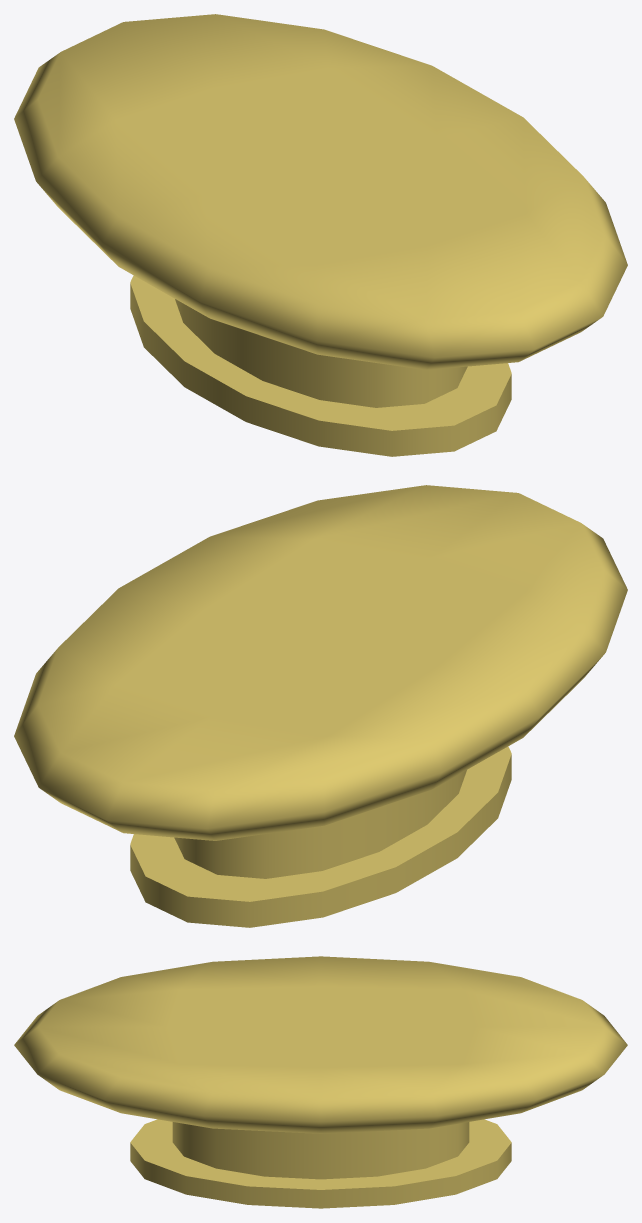
File: mesa.fbx
3 renders of one model, top to bottom at view 1: azimuth 30°, elevation 25°; view 2: azimuth 150°, elevation 25°; view 3: azimuth 270°, elevation 25°, orthographic. The views are drawn at different scales.
Parts seen in each view (by area): view 1: mesa; view 2: mesa; view 3: mesa.
Boxes of the visible parts, box(x1,y1,x2,y2) form: mesa: box(14, 14, 627, 456); mesa: box(14, 485, 627, 927); mesa: box(14, 956, 627, 1208).
Bounding box in the file's own units: 894 × 364 × 1514.
